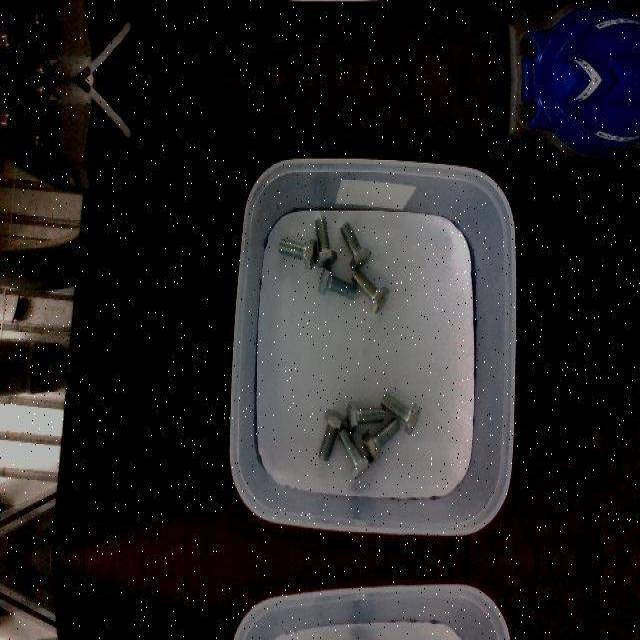screw: (362, 416, 401, 462), (381, 391, 422, 433), (339, 426, 371, 478), (353, 269, 390, 313), (339, 221, 371, 271), (318, 408, 344, 462), (318, 264, 356, 300), (346, 399, 384, 433), (315, 216, 338, 266), (279, 238, 317, 268)
